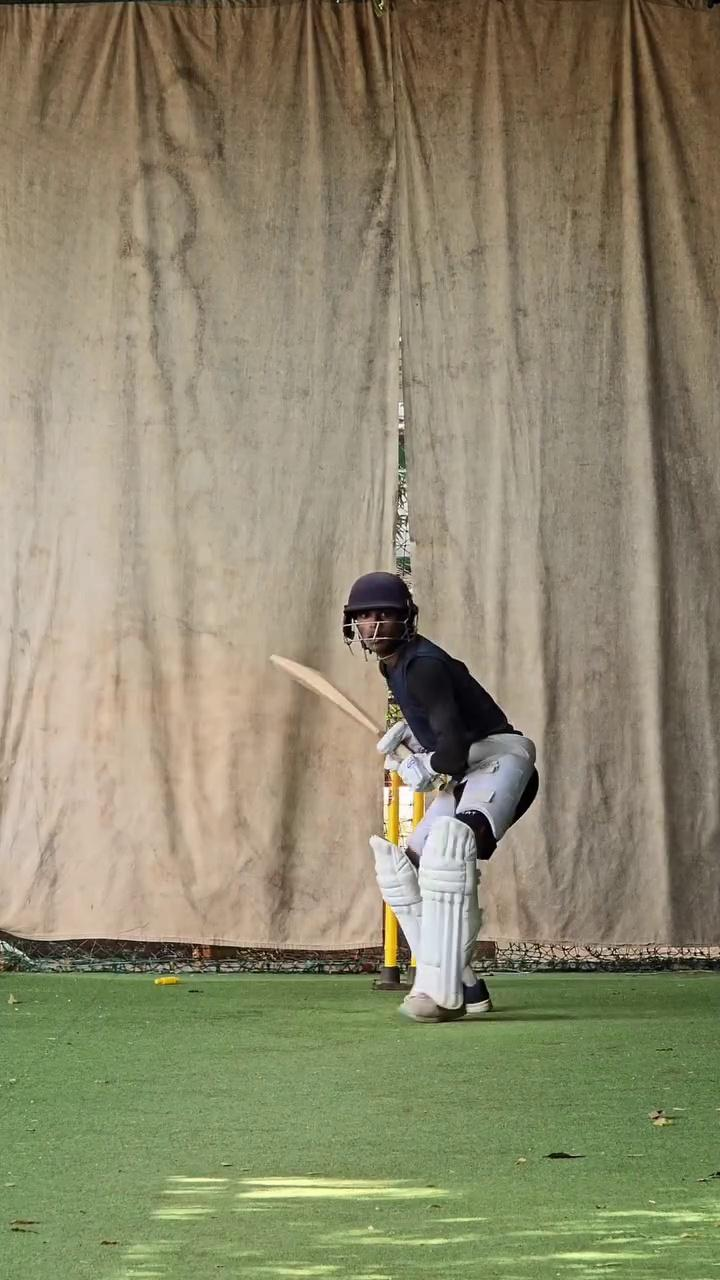bat: (266, 639, 382, 750)
